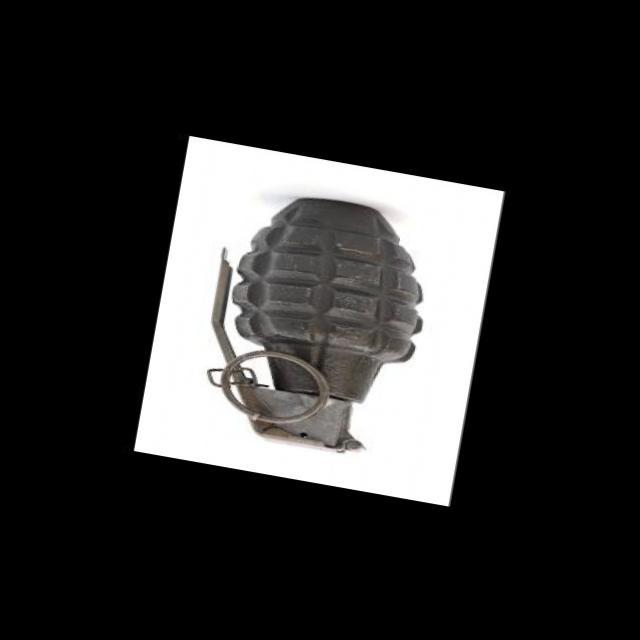grenade: (172, 171, 462, 470)
